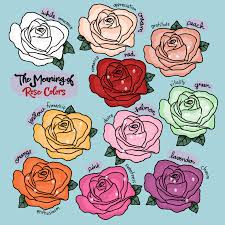lale: (10, 151, 81, 223), (75, 51, 160, 110), (4, 6, 75, 71), (140, 155, 209, 220), (74, 154, 141, 219), (27, 103, 97, 163), (157, 86, 225, 147), (145, 21, 212, 79), (73, 1, 141, 58), (100, 105, 154, 167)
